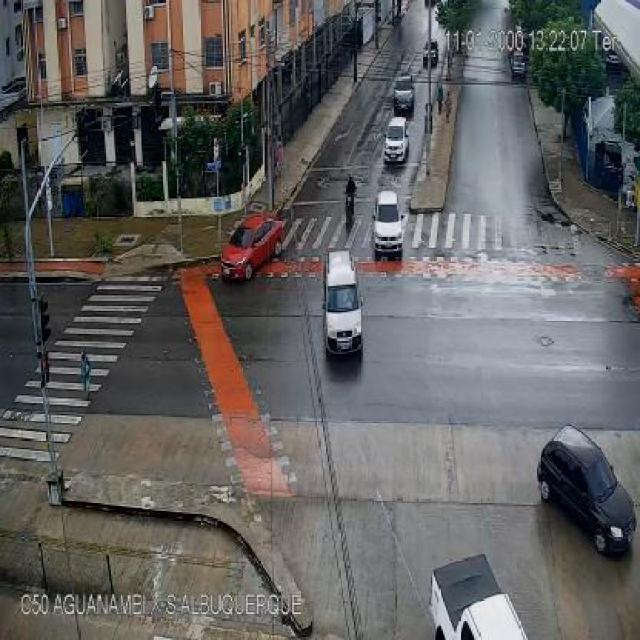Car: (537, 424, 640, 556), (321, 247, 365, 358), (216, 214, 286, 281), (374, 190, 409, 261), (382, 118, 412, 167), (392, 72, 418, 114)
Cycle: (341, 172, 359, 229)
